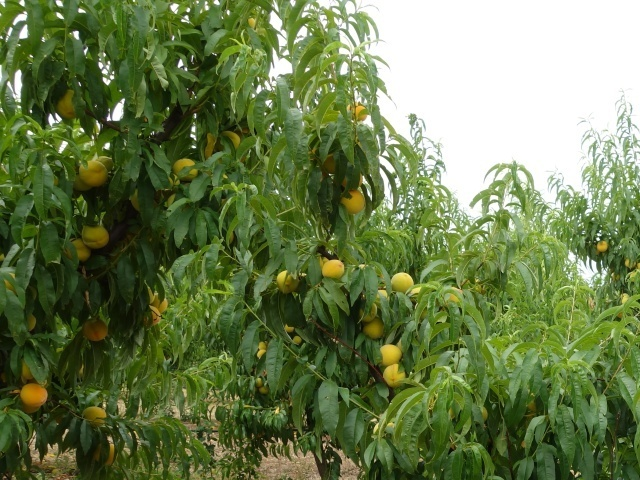peach: (51, 86, 85, 124), (76, 158, 111, 189), (76, 221, 111, 252), (337, 186, 369, 217), (17, 381, 50, 410), (60, 237, 93, 265), (372, 339, 402, 369), (78, 403, 110, 431), (318, 256, 347, 286), (169, 155, 200, 183), (215, 128, 246, 156), (79, 315, 110, 343), (274, 266, 302, 297), (386, 269, 416, 297), (379, 361, 409, 389), (14, 360, 41, 390), (91, 443, 121, 468), (359, 317, 387, 343), (355, 299, 381, 326), (141, 301, 163, 327), (149, 289, 172, 313), (348, 104, 371, 126)
